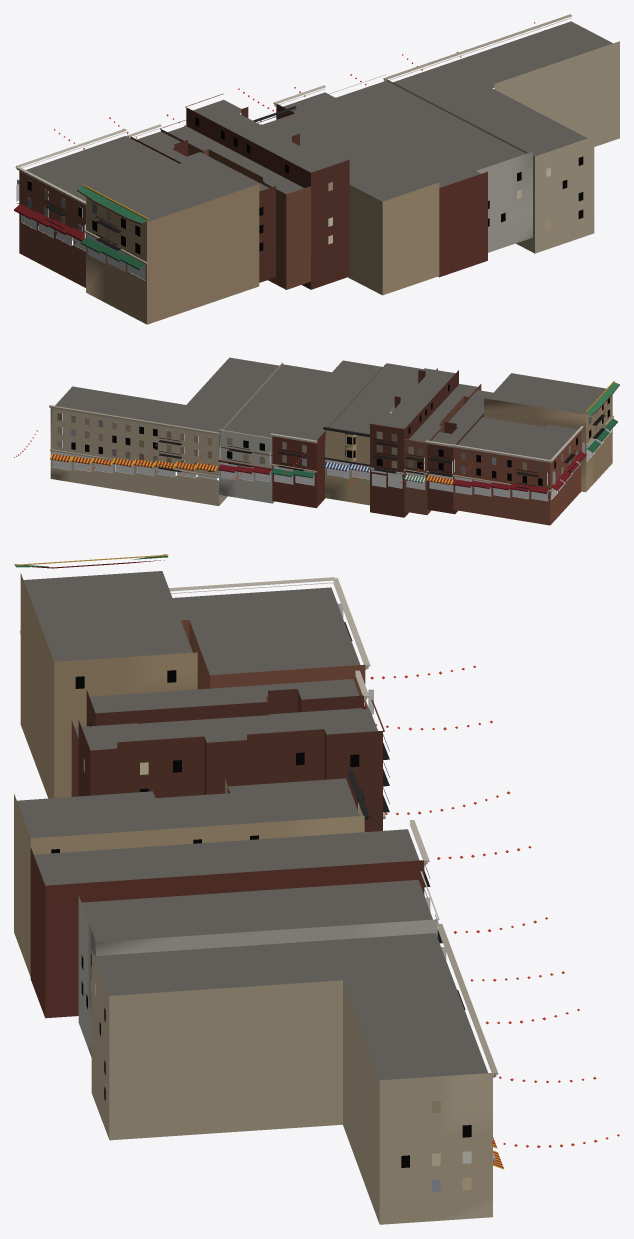
3 views of the same model, one above another, from view 1: azimuth 30°, elevation 25°; view 2: azimuth 150°, elevation 25°; view 3: azimuth 270°, elevation 25° (orthographic). The views are drawn at different scales.
Visible parts, largest first — view 1: L1_roof, L1_d_brick, L1_brickred, L1_brick, L1_d_brickred, L1_d_stucco, L1_stucco, L1_stone, L1_win, L1_d_fabric, L1_shopint, L1_rooftile (+2 smaller); view 2: L1_roof, L1_brickred, L1_brick, L1_stucco, L1_d_fabric, L1_shopint, L1_win, L1_stone, L1_d_metal, L1_sign, L1_d_brickred, L1_d_stone (+1 smaller); view 3: L1_roof, L1_d_brick, L1_brickred, L1_brick, L1_stucco, L1_d_brickred, L1_stone, L1_d_stucco, L1_win.
Boxes of the visible parts, <box> form: L1_roof: <box>26,21,612,222</box>; L1_d_brick: <box>147,41,619,324</box>; L1_brickred: <box>19,103,439,289</box>; L1_brick: <box>86,136,594,324</box>; L1_d_brickred: <box>91,129,487,289</box>; L1_d_stucco: <box>348,182,439,295</box>; L1_stucco: <box>476,151,532,252</box>; L1_stone: <box>15,14,571,264</box>; L1_win: <box>27,117,583,254</box>; L1_d_fabric: <box>14,203,144,270</box>; L1_shopint: <box>21,214,145,279</box>; L1_rooftile: <box>77,186,147,223</box>; L1_roof: <box>55,357,606,459</box>; L1_brickred: <box>272,364,581,525</box>; L1_brick: <box>50,395,612,505</box>; L1_stucco: <box>219,430,369,505</box>; L1_d_fabric: <box>50,418,617,493</box>; L1_shopint: <box>52,428,611,501</box>; L1_win: <box>57,384,609,485</box>; L1_stone: <box>49,405,613,491</box>; L1_d_metal: <box>158,411,605,488</box>; L1_sign: <box>52,428,605,494</box>; L1_d_brickred: <box>427,384,483,514</box>; L1_d_stone: <box>51,408,550,462</box>; L1_roof: <box>17,571,487,1080</box>; L1_d_brick: <box>20,573,379,1223</box>; L1_brickred: <box>45,620,424,1018</box>; L1_brick: <box>54,652,492,1224</box>; L1_stucco: <box>30,779,437,1057</box>; L1_d_brickred: <box>30,620,365,1017</box>; L1_stone: <box>20,577,498,1161</box>; L1_d_stucco: <box>14,794,30,976</box>; L1_win: <box>51,670,471,1192</box>.
Size of the model in its own units: 121 by 28.26 by 67.85.
